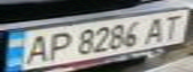2: (93, 23, 115, 53)
6: (121, 18, 148, 47)
8: (109, 20, 130, 51), (75, 26, 96, 56)
A: (18, 32, 54, 65), (142, 15, 172, 44)
P: (42, 29, 75, 61)
T: (157, 11, 190, 40)
